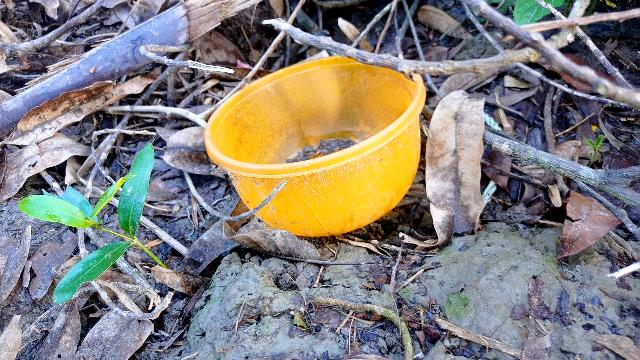hardplastic: (204, 59, 427, 233)
